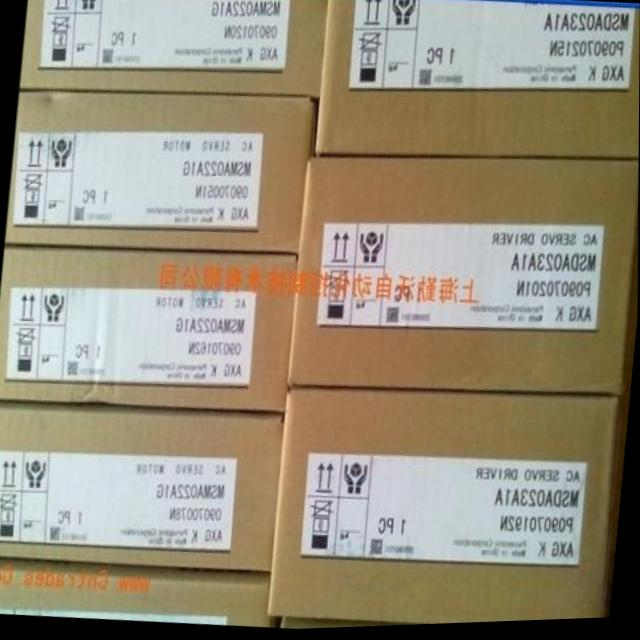box: (286, 160, 639, 399), (269, 392, 621, 627), (314, 0, 640, 162), (5, 91, 314, 256), (0, 245, 299, 413), (0, 406, 287, 575), (20, 0, 327, 99), (0, 557, 276, 628), (282, 617, 457, 631)
